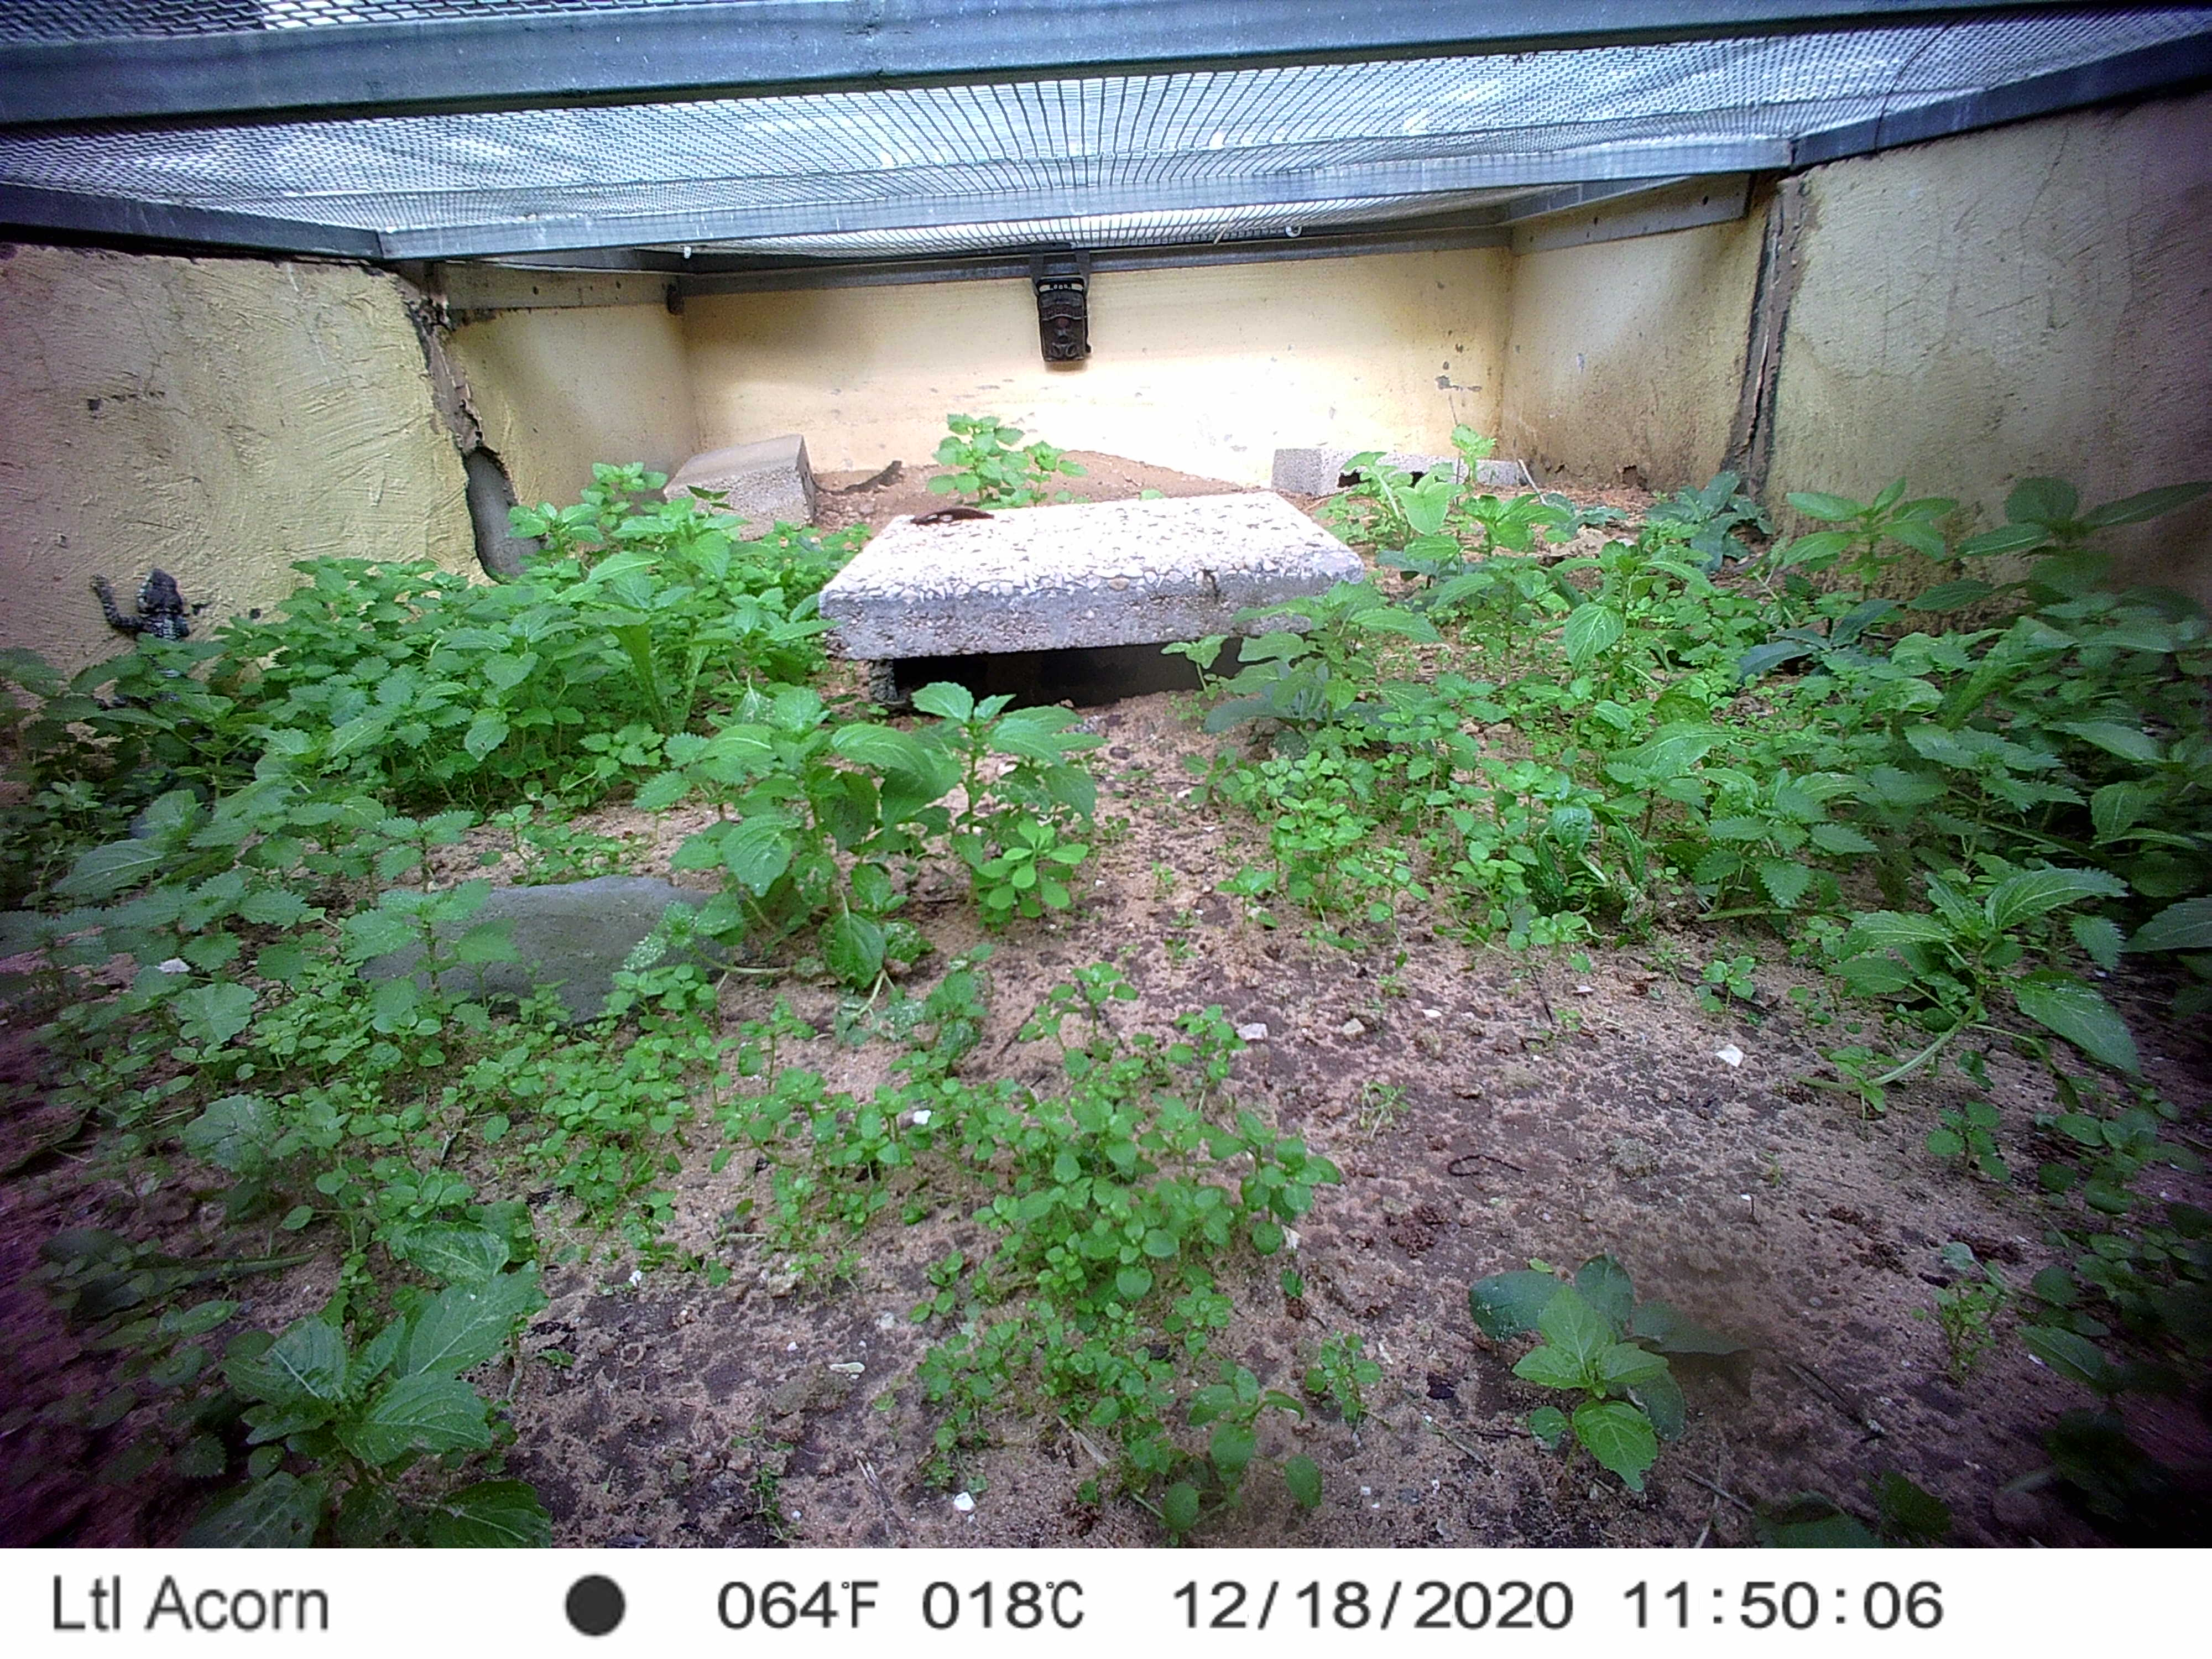lizard: (82, 568, 216, 676), (812, 457, 913, 500)
